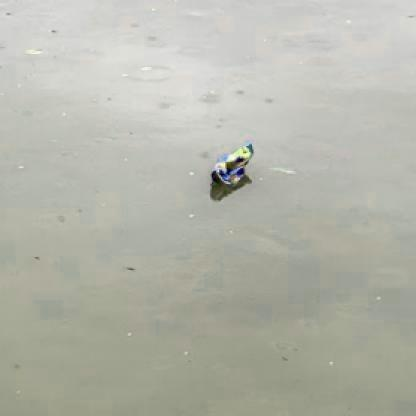Trash: (209, 131, 255, 190)
